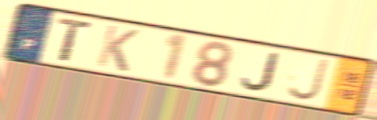1: (161, 33, 190, 82)
8: (190, 40, 235, 89)
J: (284, 57, 331, 104), (239, 51, 281, 93)
K: (93, 23, 142, 75)
T: (56, 16, 96, 64)
